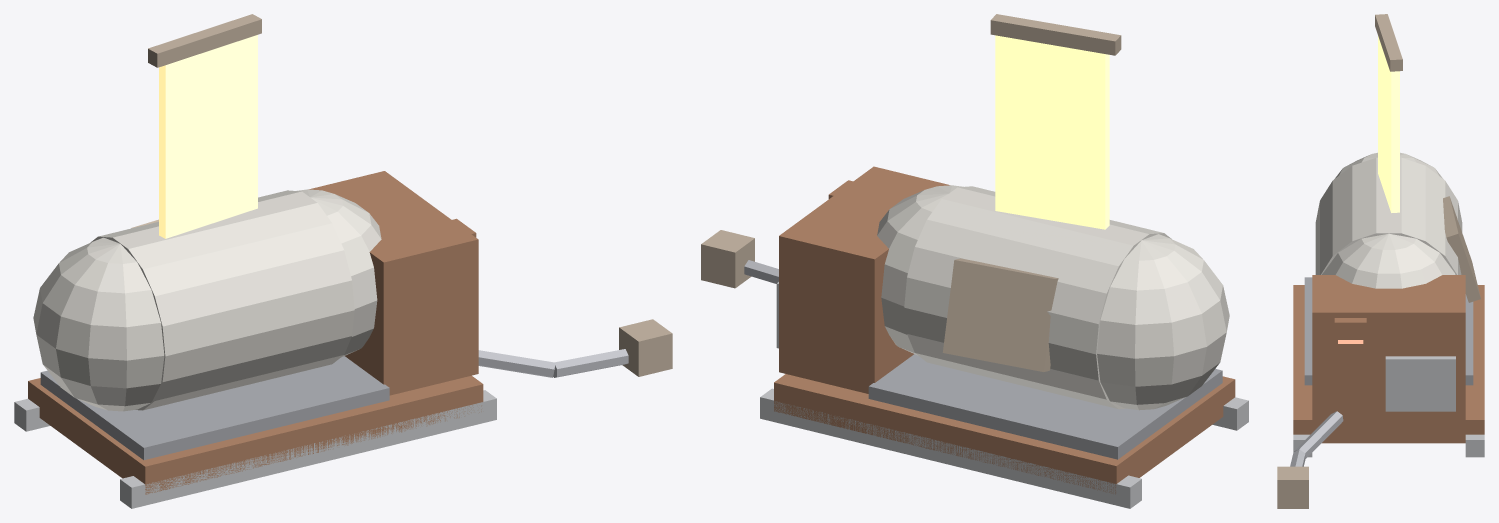
The model's file is power_skid_patched.glb.
3 renders of one model, left to right at view 1: azimuth 30°, elevation 25°; view 2: azimuth 150°, elevation 25°; view 3: azimuth 270°, elevation 25°, orthographic. The views are drawn at different scales.
Visible parts, largest first — view 1: core_shell, cabinet, core_domea, fin_wrong, skid, core_saddlea, runner_s, core_saddlef, core_domef, fin_frame, plug_taped, cable (+1 smaller); view 2: core_shell, cabinet, fin_wrong, core_domea, skid, core_patch, core_saddlea, runner_p, core_saddlef, core_domef, fin_frame, plug_taped (+1 smaller); view 3: cabinet, core_shell, skid, core_domef, cab_patch, fin_wrong, core_patch, plug_taped, cable, core_saddlef, fin_frame, core_saddlea (+3 smaller).
Part boxes in pixels (x1,y1,x2,y2): core_shell: (90,190,354,410); cabinet: (308,171,478,395); core_domea: (33,237,164,411); fin_wrong: (159,35,257,238); skid: (28,375,483,494); core_saddlea: (40,370,275,459); runner_s: (120,390,496,508); core_saddlef: (219,356,389,431); core_domef: (297,189,381,357); fin_frame: (148,14,261,67); plug_taped: (619,319,672,376); cable: (478,349,628,377); core_shell: (904,186,1171,409); cabinet: (779,166,949,393); fin_wrong: (995,35,1109,229); core_domea: (1097,234,1229,410); skid: (774,374,1235,494); core_patch: (942,258,1058,371); core_saddlea: (984,369,1222,459); runner_p: (760,388,1141,508); core_saddlef: (868,354,1022,431); core_domef: (877,185,963,355); fin_frame: (990,14,1121,55); plug_taped: (701,230,754,288); cabinet: (1312,275,1465,422); core_shell: (1315,157,1462,274); skid: (1293,285,1484,443); core_domef: (1322,233,1455,288); cab_patch: (1385,356,1455,411); fin_wrong: (1378,36,1399,212); core_patch: (1443,196,1480,302); plug_taped: (1277,466,1308,508); cable: (1290,411,1343,466); core_saddlef: (1304,330,1473,385); fin_frame: (1375,14,1402,71); core_saddlea: (1304,277,1473,329).
Bounding box in the file's own units: 8.25 × 5.65 × 3.25.
